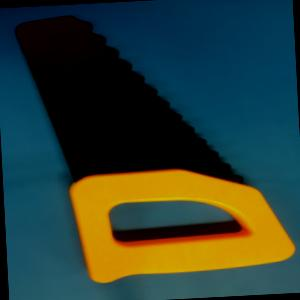serrote: (11, 3, 297, 289)
